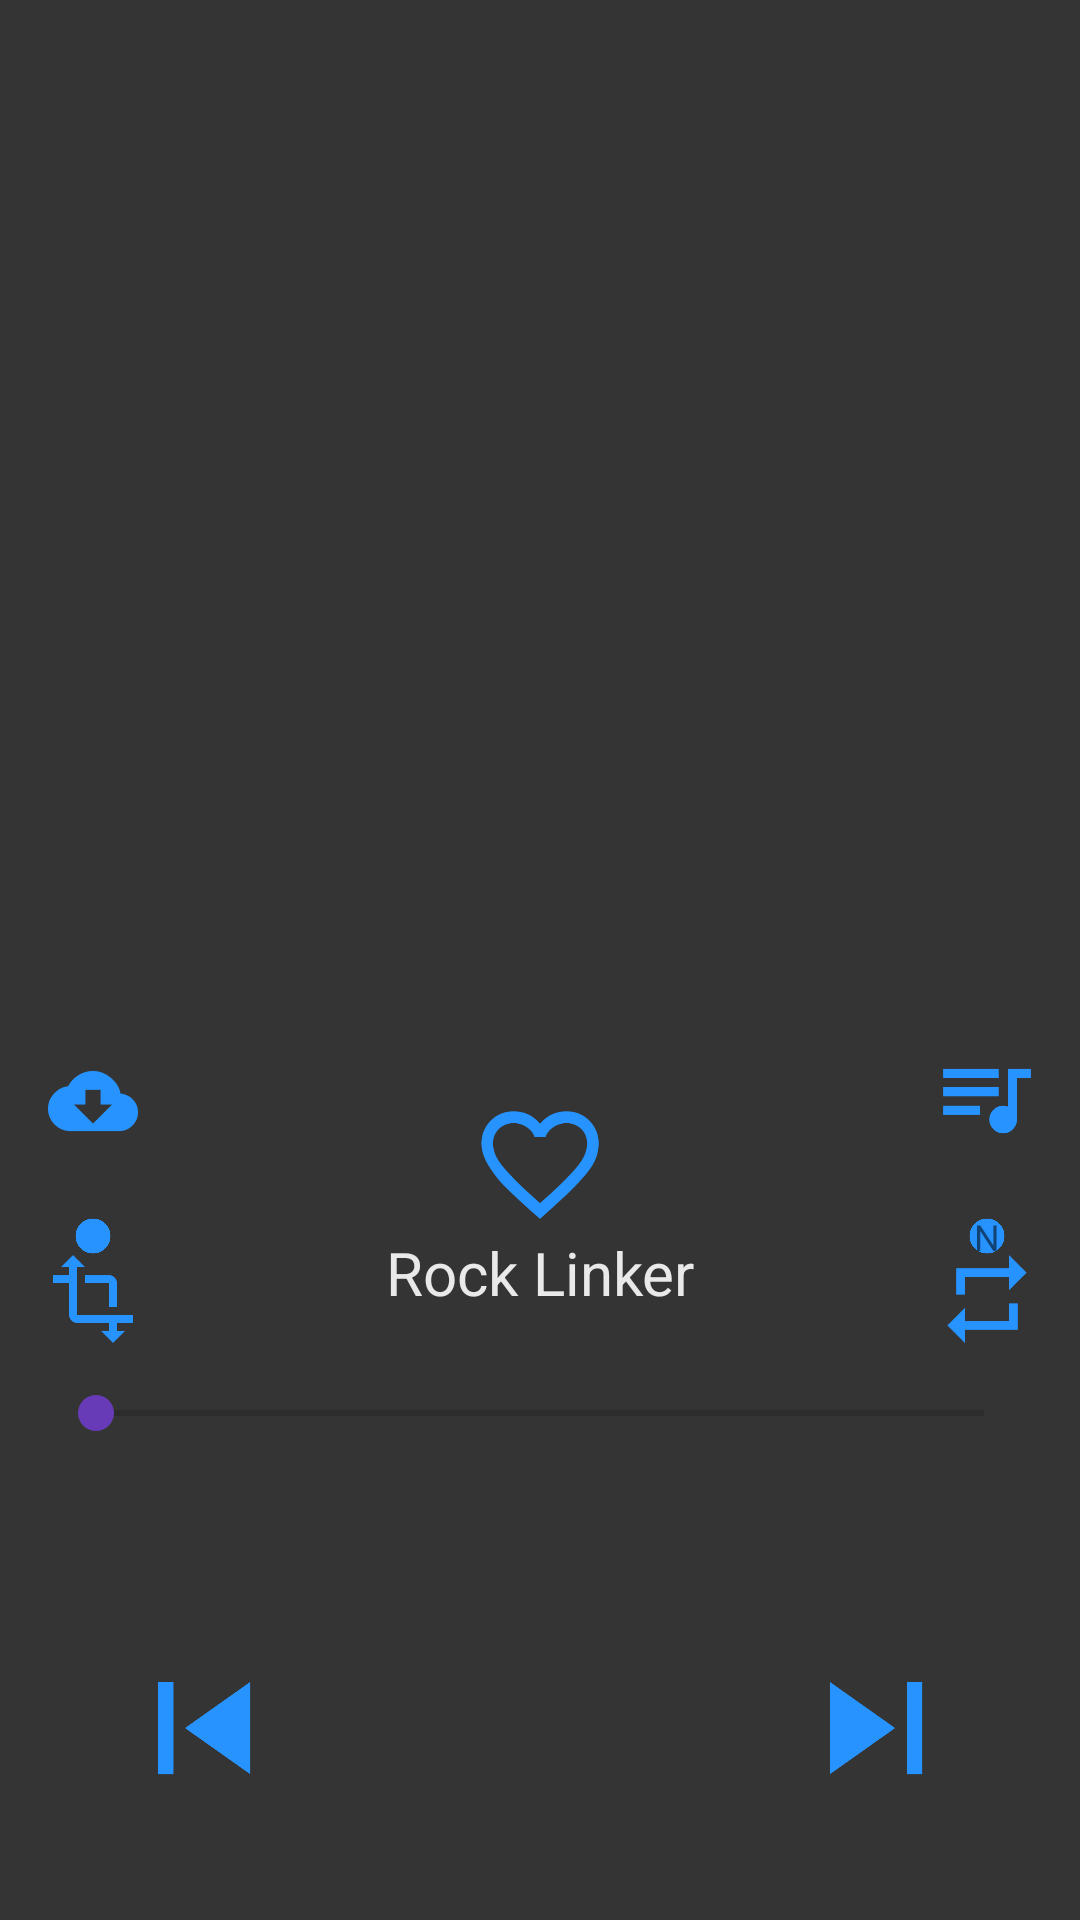

Icons on this 1080×1920 Android screen, each with the point to tap as (x=x, y=y):
cloud download: (x=93, y=1101)
favorite border: (x=540, y=1165)
fiber manual record: (x=93, y=1236), (x=987, y=1236)
queue music: (x=987, y=1101)
repeat: (x=987, y=1299)
skip next: (x=876, y=1728)
skip previous: (x=204, y=1728)
transform: (x=93, y=1299)
